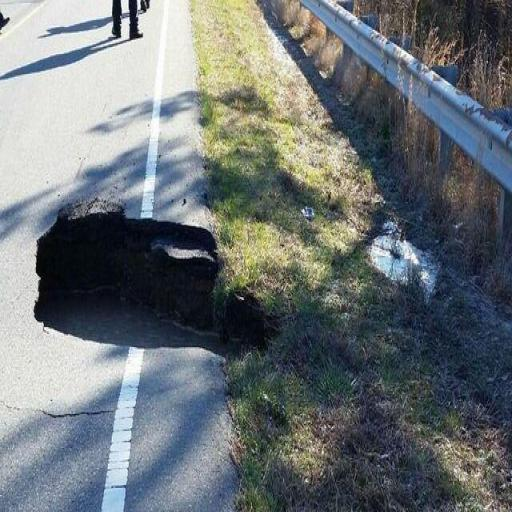Concentric_Crack: (34, 203, 279, 354)
